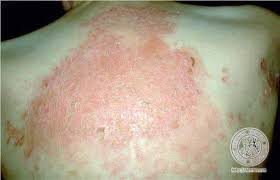herpes: (56, 42, 212, 142)
